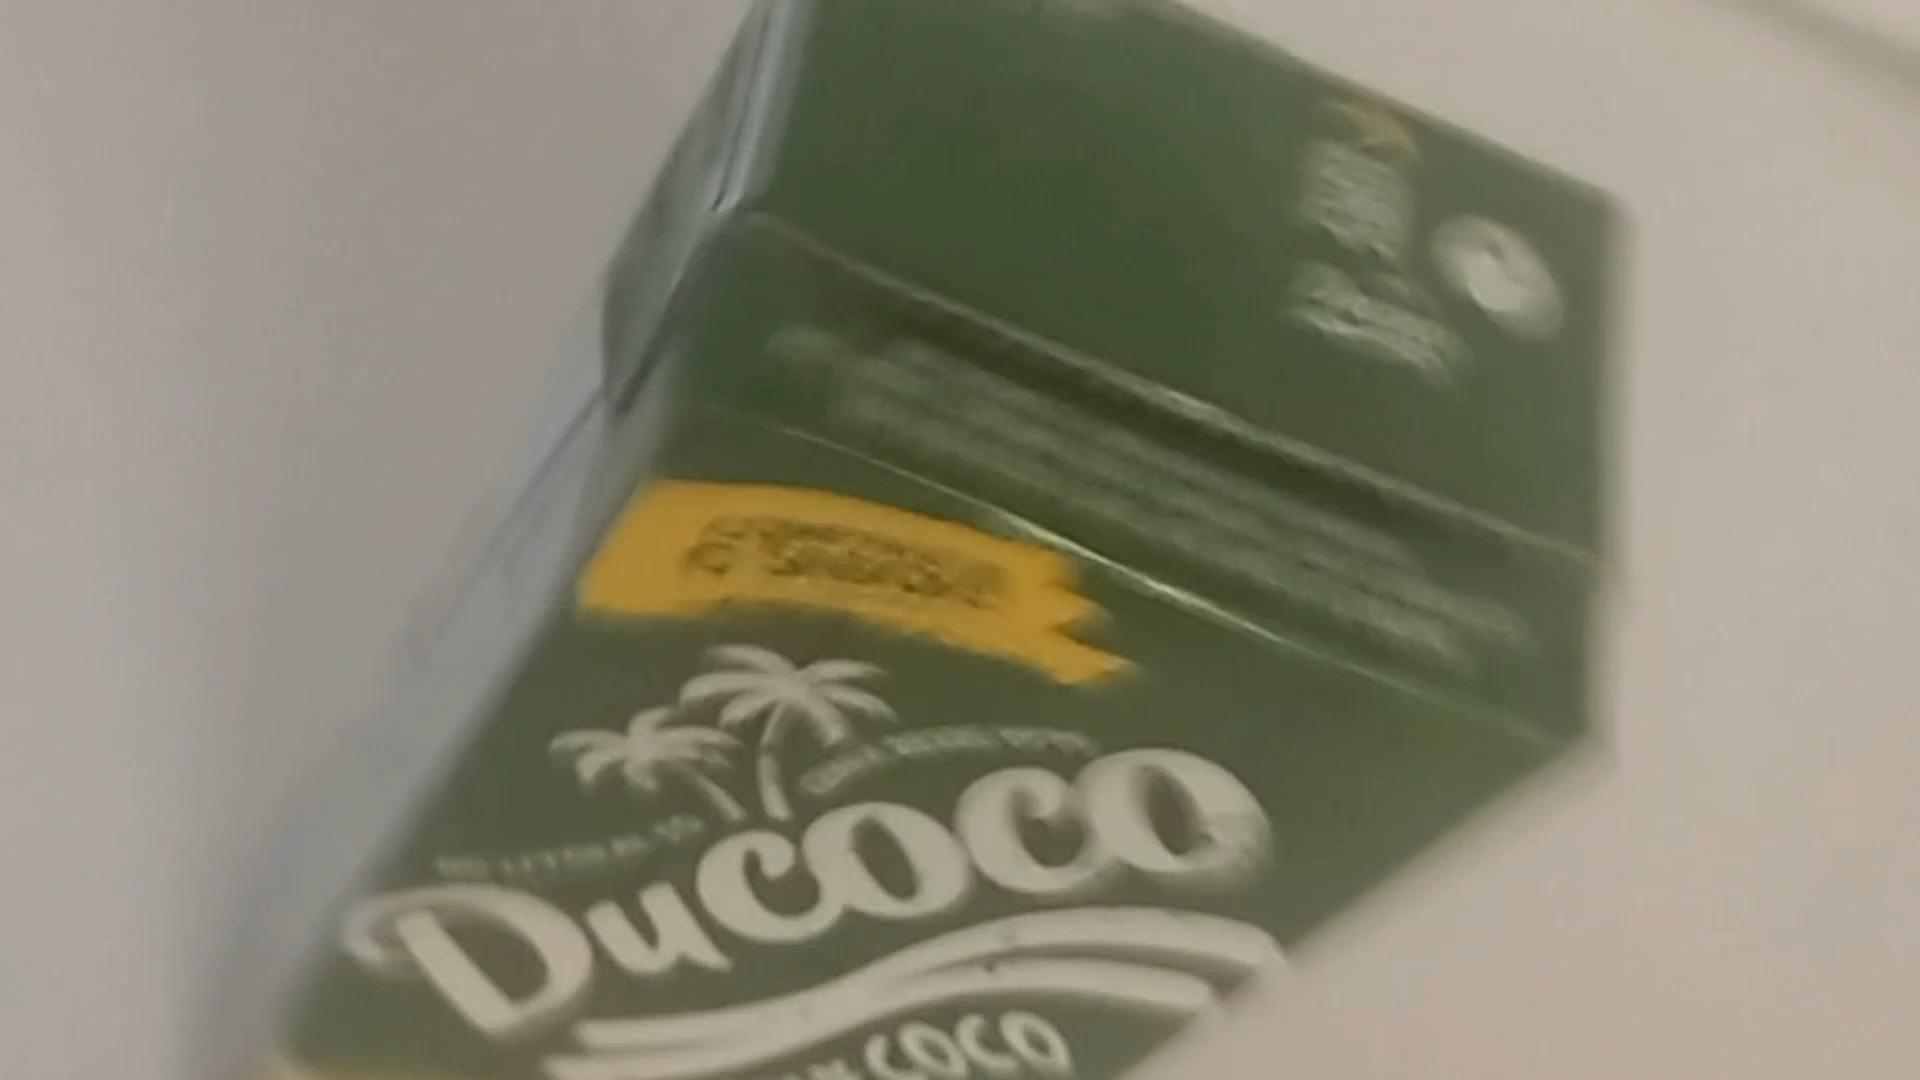coco: (233, 0, 1605, 1077)
